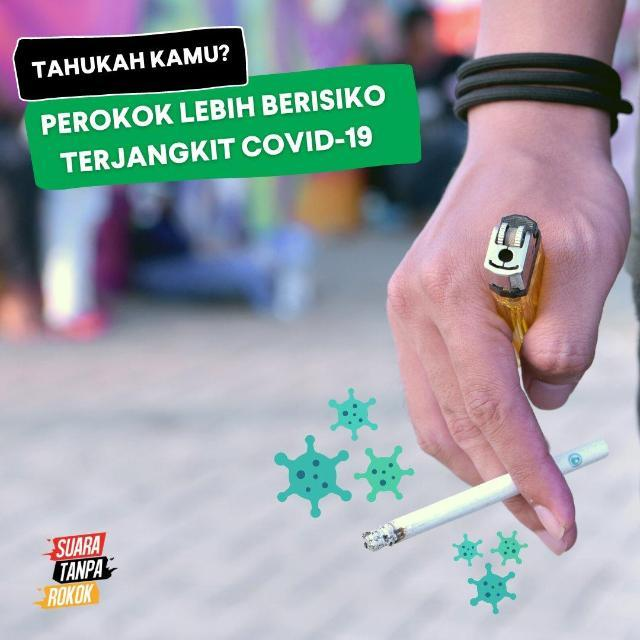rokok: (352, 432, 616, 556)
